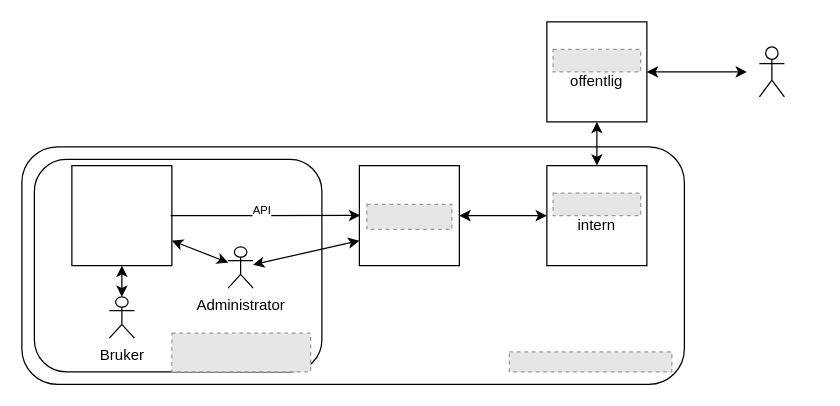
The diagram is 840 pixels wide and 406 high, and some of its shapes have lost their labels. Grey dashed boxes stand in for pictures. The shapes that lost their labels are listed below. From the top down, each one's centre as x and y in pixels, then its label:
pixel 771 71: Skjemautfyller
pixel 121 215: Skreddersydd applikasjon
